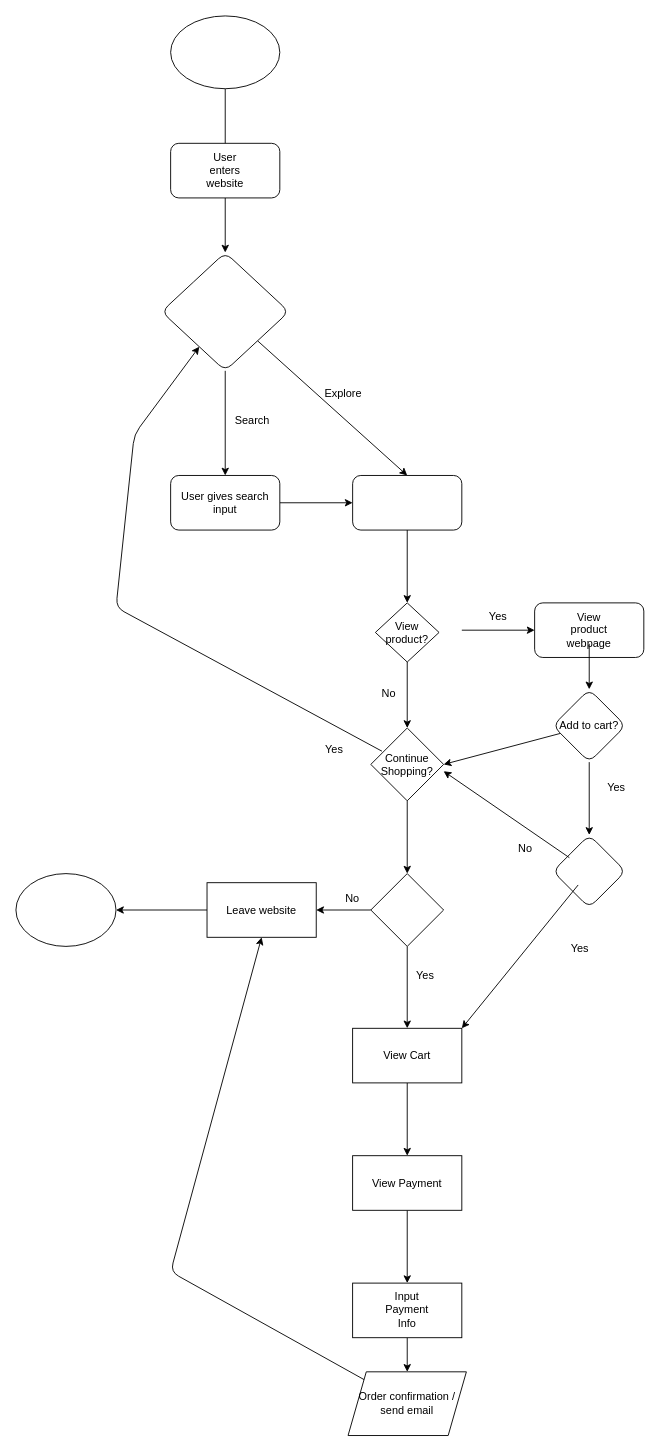
This 660x1451 diagram has some shape labels left out. The shapes that lost their labels are listed below. From the top down, each one's centre as x and y in pixels, then its label:
[225,52]: Start
[225,311]: Search for product / Explore products
[407,502]: User looks over products
[589,871]: Confirm add
[65,909]: End
[407,909]: Checkout?
